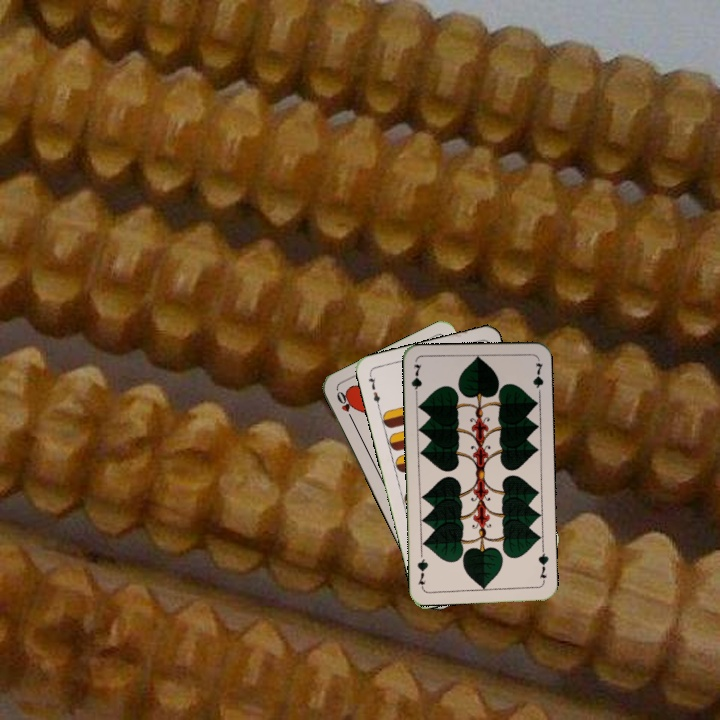E7: (364, 370, 383, 410)
G7: (407, 360, 424, 400), (534, 545, 551, 585)
HO: (332, 387, 357, 425)
